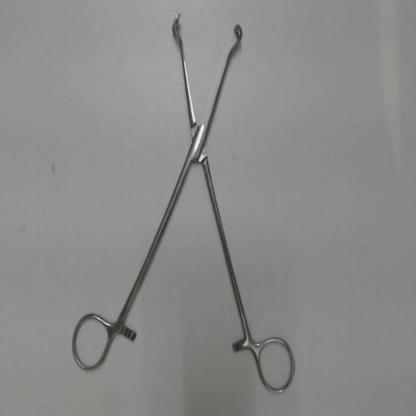8 Babcock Tissue Forceps: (68, 6, 303, 403)
